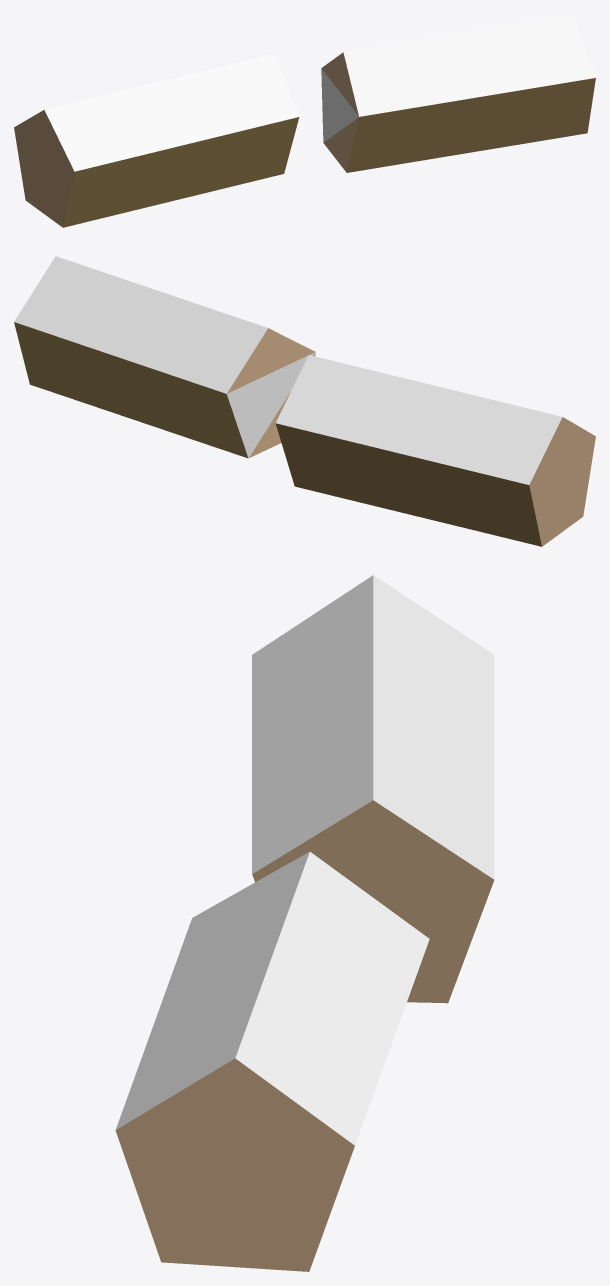
The model's file is Oak_Firewood_Snow_04.fbx.
3 views of the same model, one above another, from view 1: azimuth 30°, elevation 25°; view 2: azimuth 150°, elevation 25°; view 3: azimuth 270°, elevation 25° (orthographic). The views are drawn at different scales.
Parts seen in each view (by area): view 1: Oak_Firewood_Snow_04; view 2: Oak_Firewood_Snow_04; view 3: Oak_Firewood_Snow_04.
Part boxes in pixels (x1=…): Oak_Firewood_Snow_04: x1=14, y1=14, x2=595, y2=227; Oak_Firewood_Snow_04: x1=14, y1=256, x2=595, y2=546; Oak_Firewood_Snow_04: x1=115, y1=575, x2=494, y2=1271.
Size of the model in its own units: 63.31 by 12.56 by 20.65.
